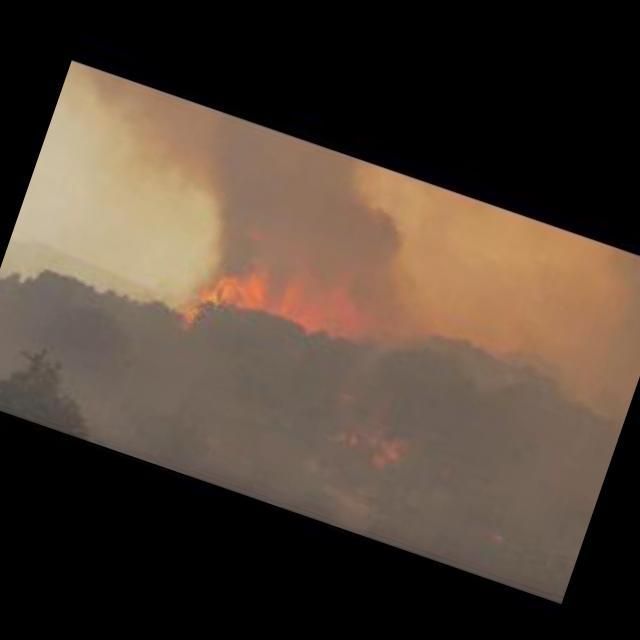fire: (172, 221, 392, 389), (362, 414, 410, 458), (330, 426, 360, 447), (369, 452, 386, 468)
smoke: (65, 67, 432, 307)
